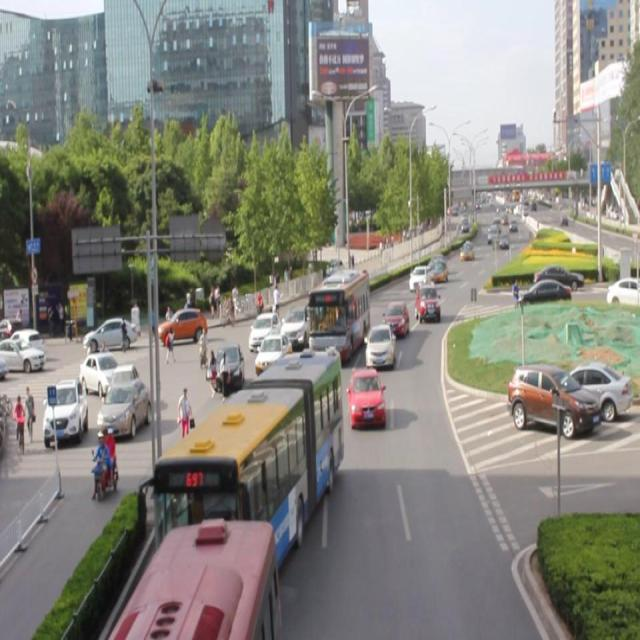car: (253, 363, 297, 423), (348, 365, 383, 426), (211, 337, 245, 392), (254, 332, 291, 374), (248, 308, 281, 352), (280, 303, 313, 346), (364, 323, 394, 367), (414, 278, 439, 321), (382, 299, 407, 334), (408, 261, 430, 291)
van: (156, 348, 341, 571), (129, 520, 274, 640), (311, 266, 368, 350)
